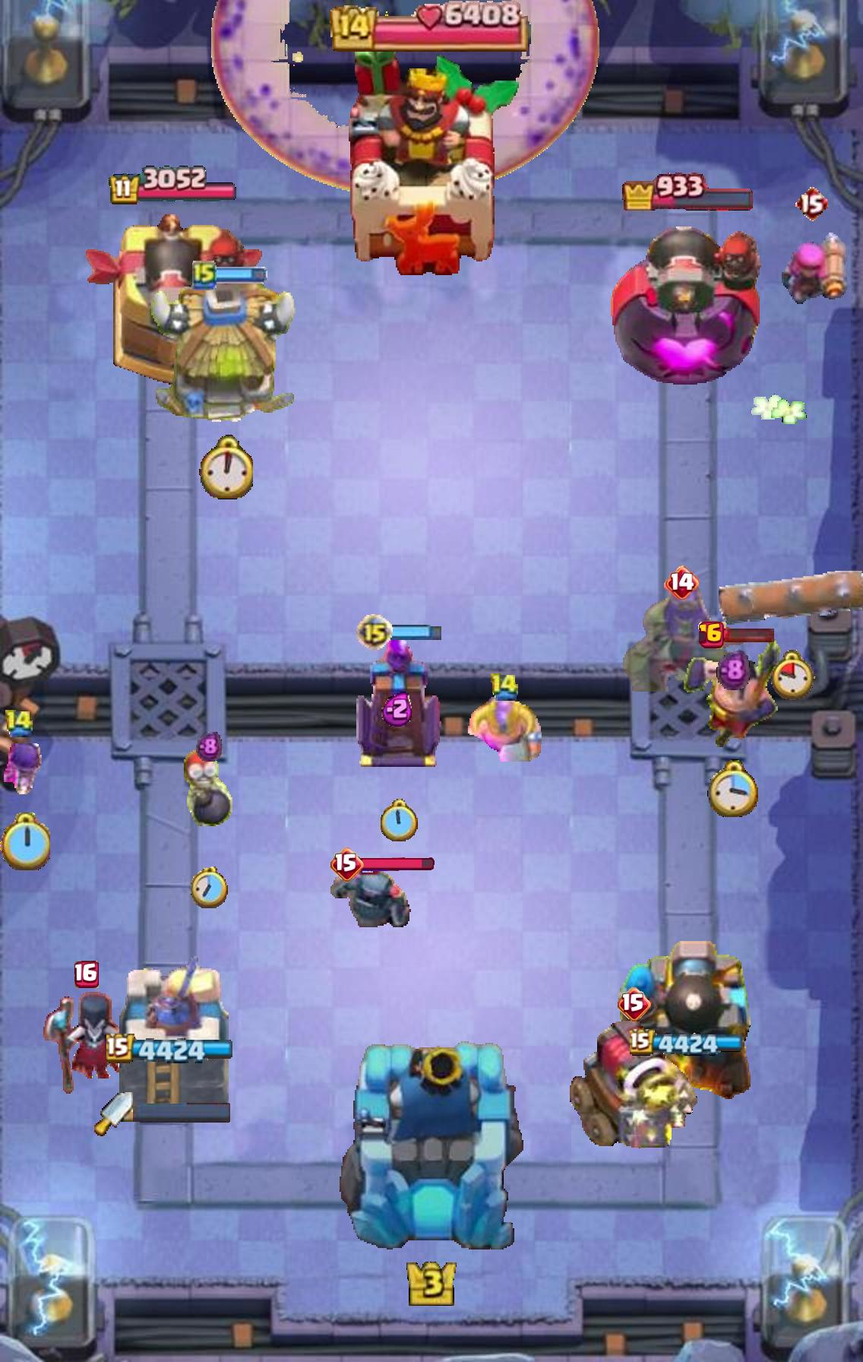bar: (361, 858, 435, 872), (722, 626, 775, 643)
bar-level: (664, 565, 700, 599), (331, 847, 365, 882), (618, 987, 652, 1022), (795, 185, 828, 221), (699, 621, 727, 649), (74, 961, 99, 988)
